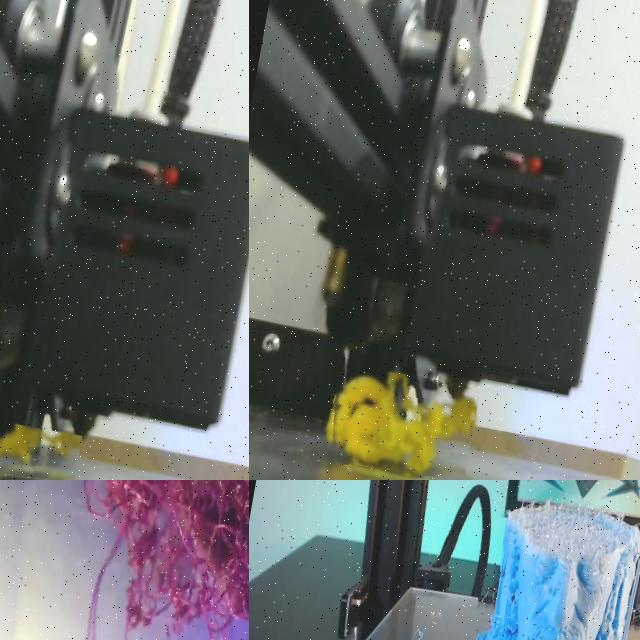spaghetti: (0, 480, 249, 640), (331, 372, 476, 475), (0, 424, 81, 464)
